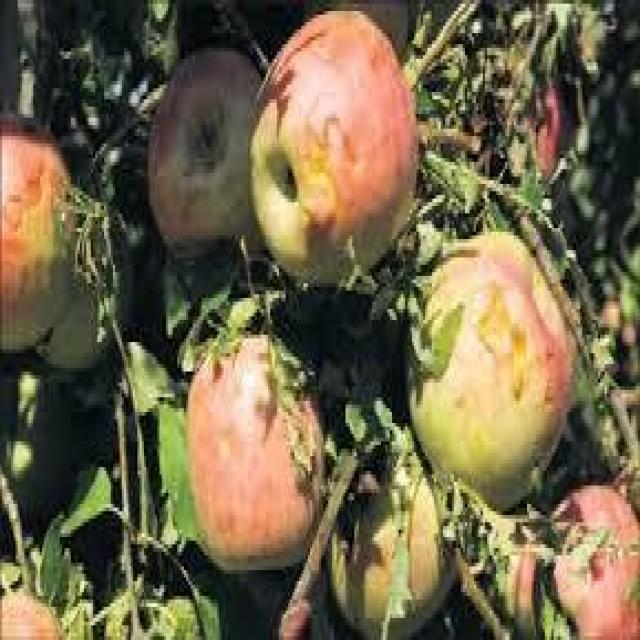maca: (405, 228, 578, 508), (248, 7, 419, 287), (184, 327, 323, 570), (328, 416, 450, 632)
